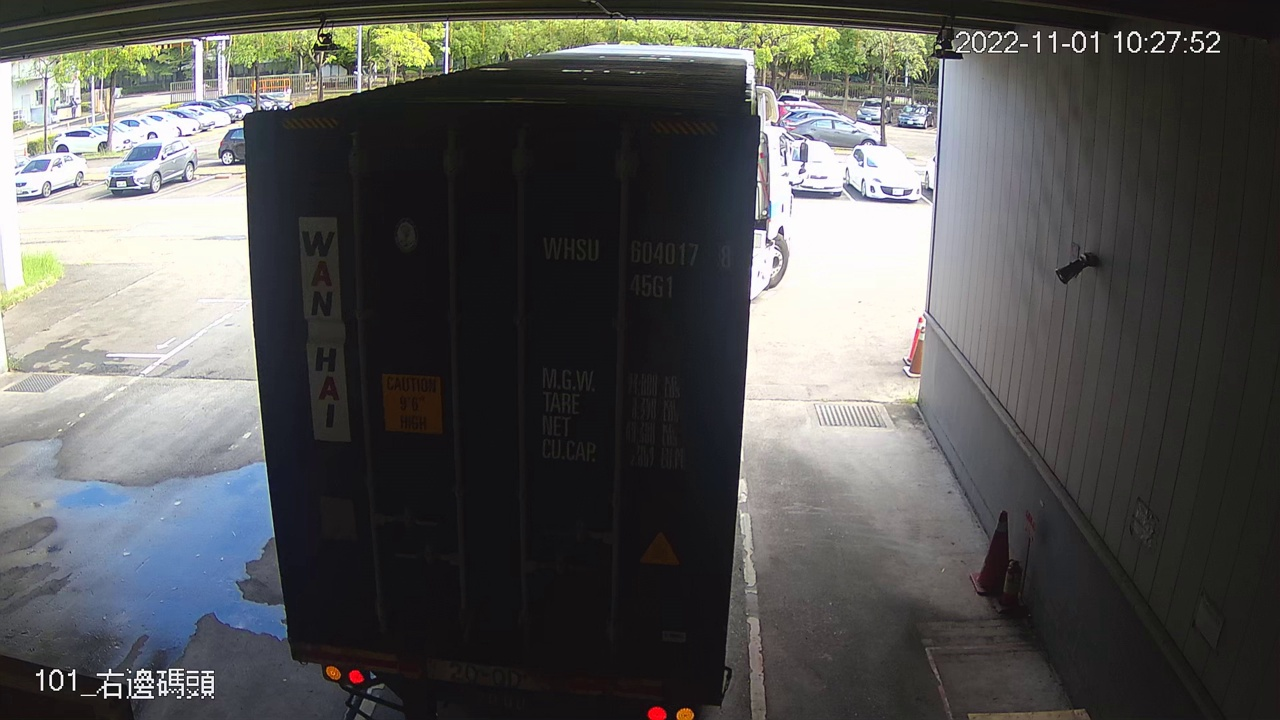container: (530, 226, 740, 308)
